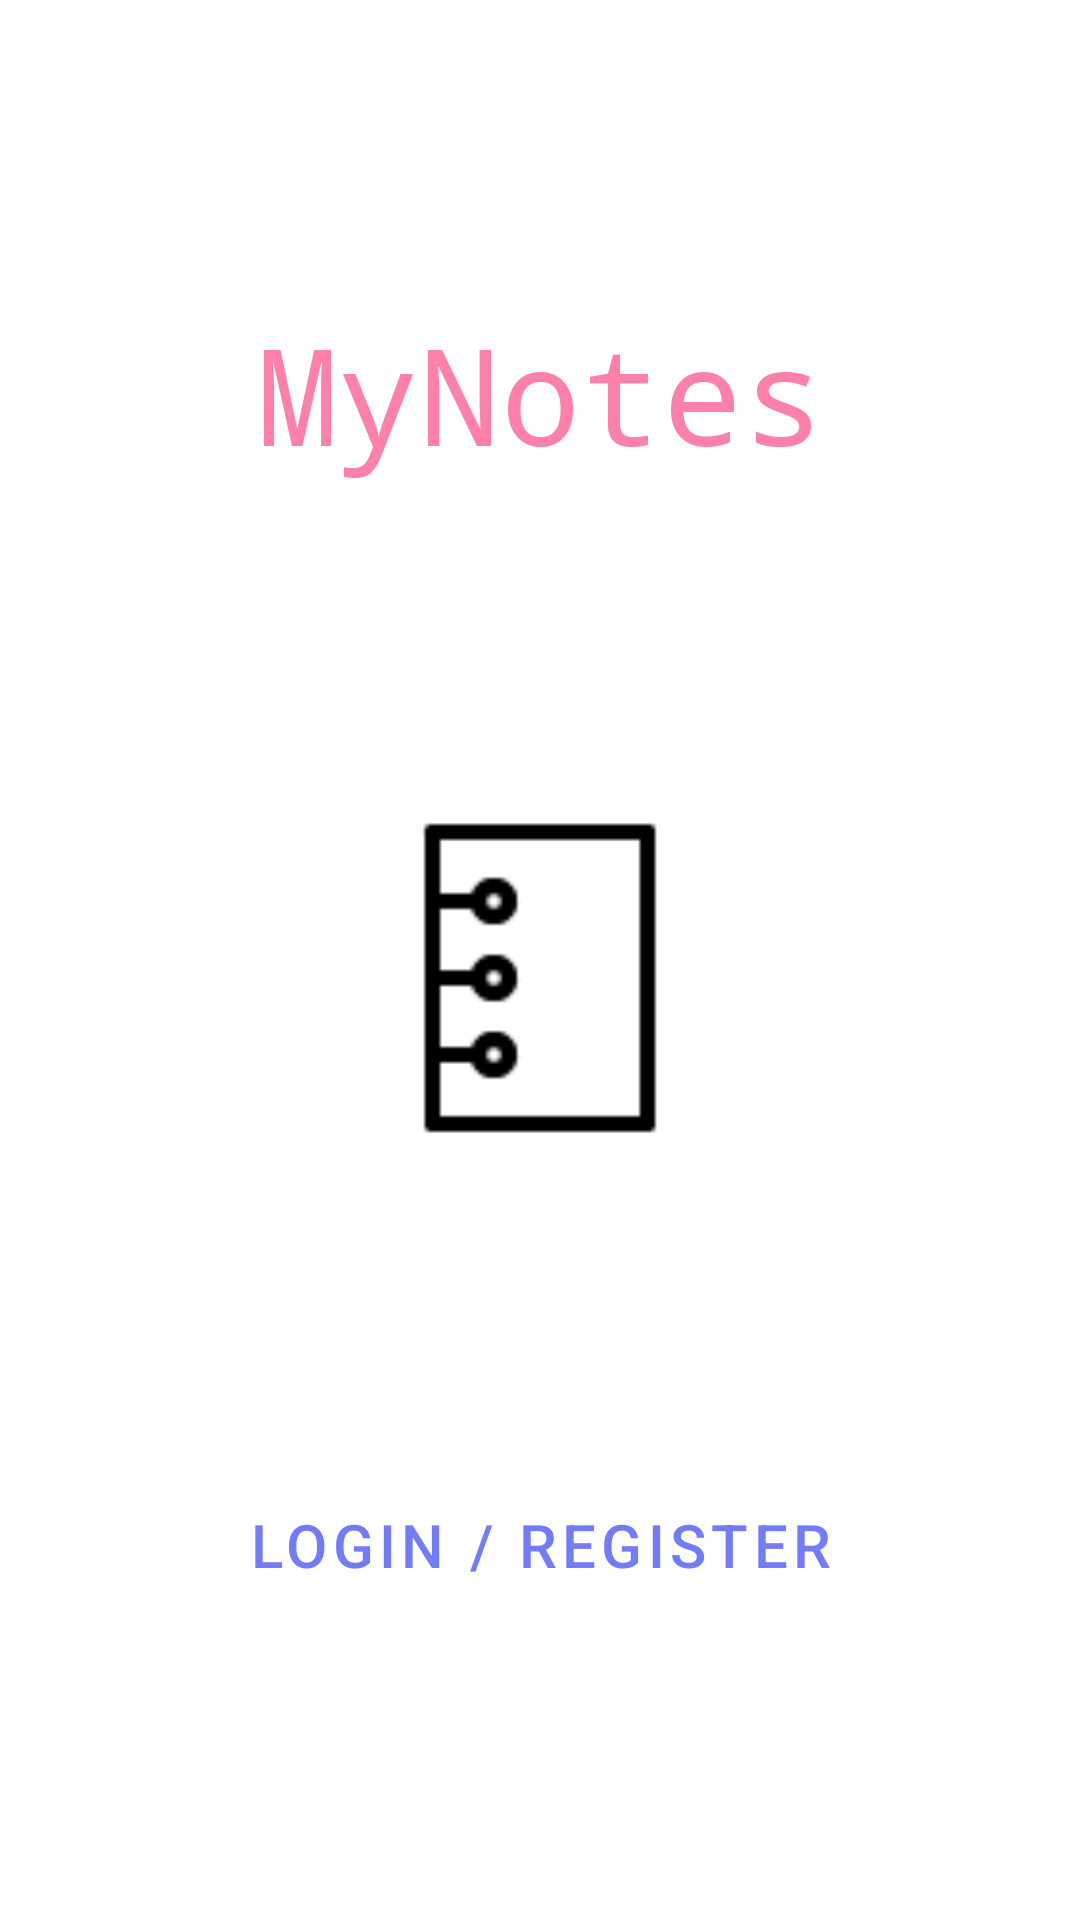

Icons on this 1080px×1920px Android screen, each with the point to tap as (x,y):
diary: (540,978)
